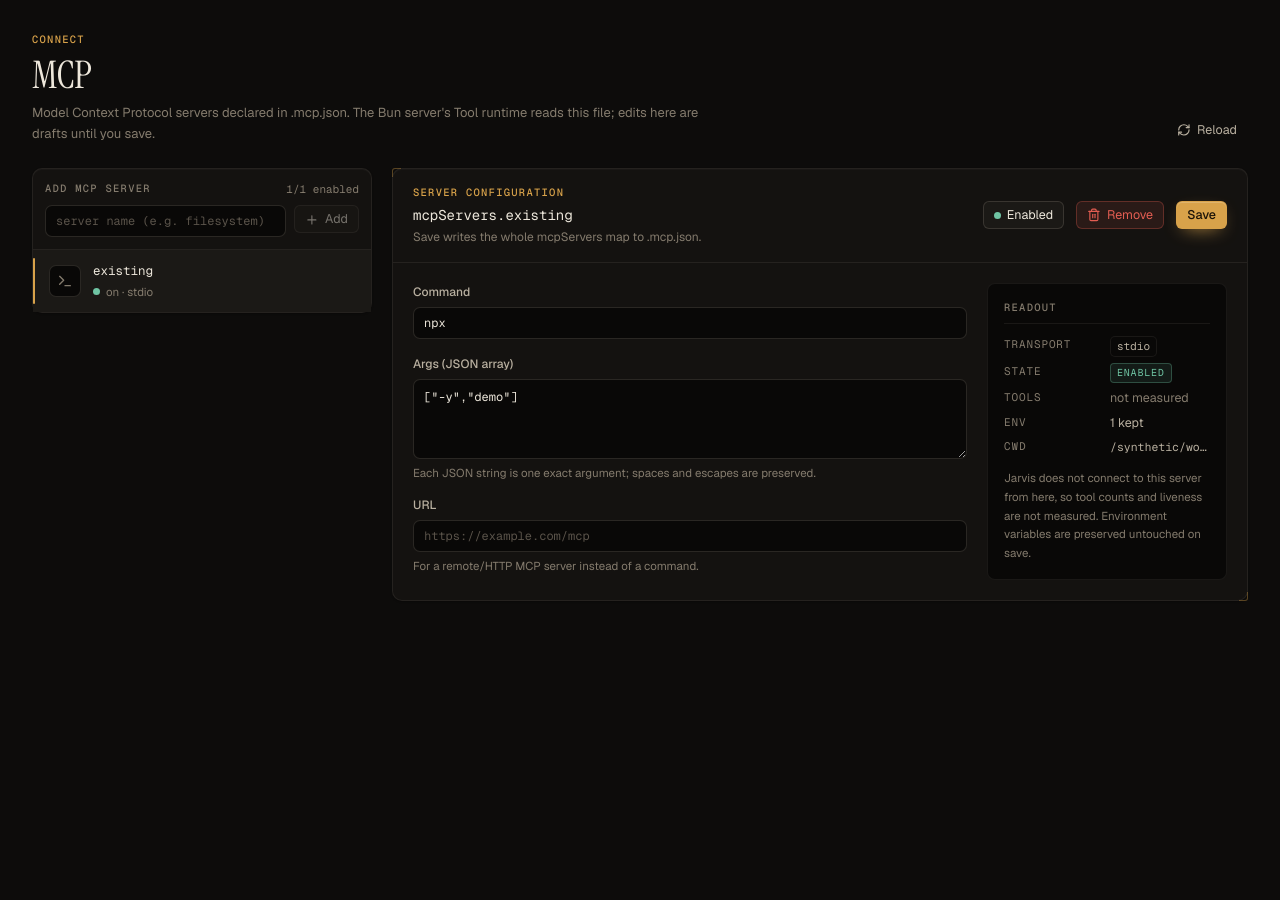
MCP persistence drafts and serialization › retries the edited retained draft without losing untouched entry fields
Expected: the field with placeholder "server name (e.g. filesystem)" is shown, [45,205,286,237]
Click the button "Save".
click(1202, 215)  # box [1176,201,1227,229]
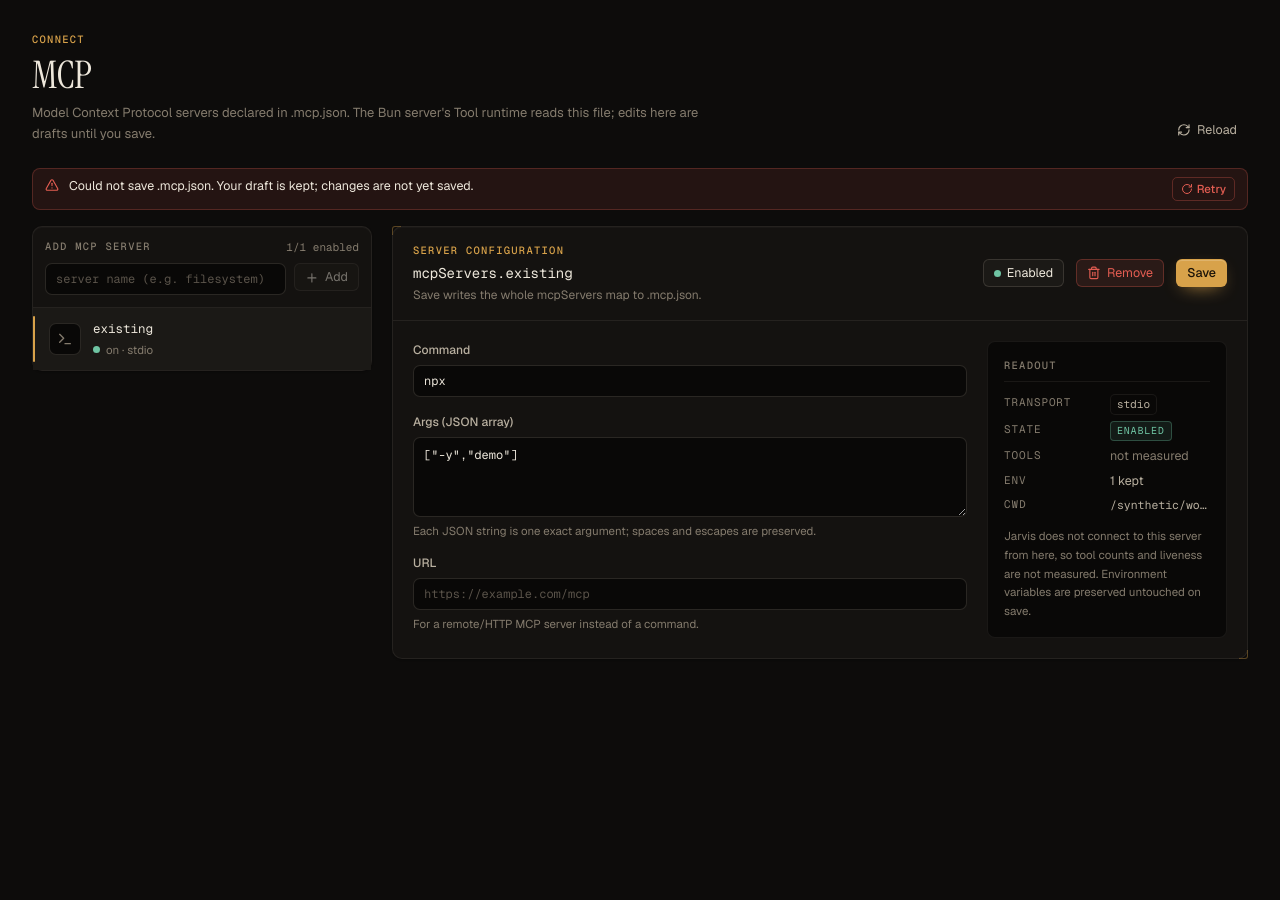
Type "bun" into the field with placeholder "npx".
click(690, 381); type("bun")  # box [413,365,967,397]
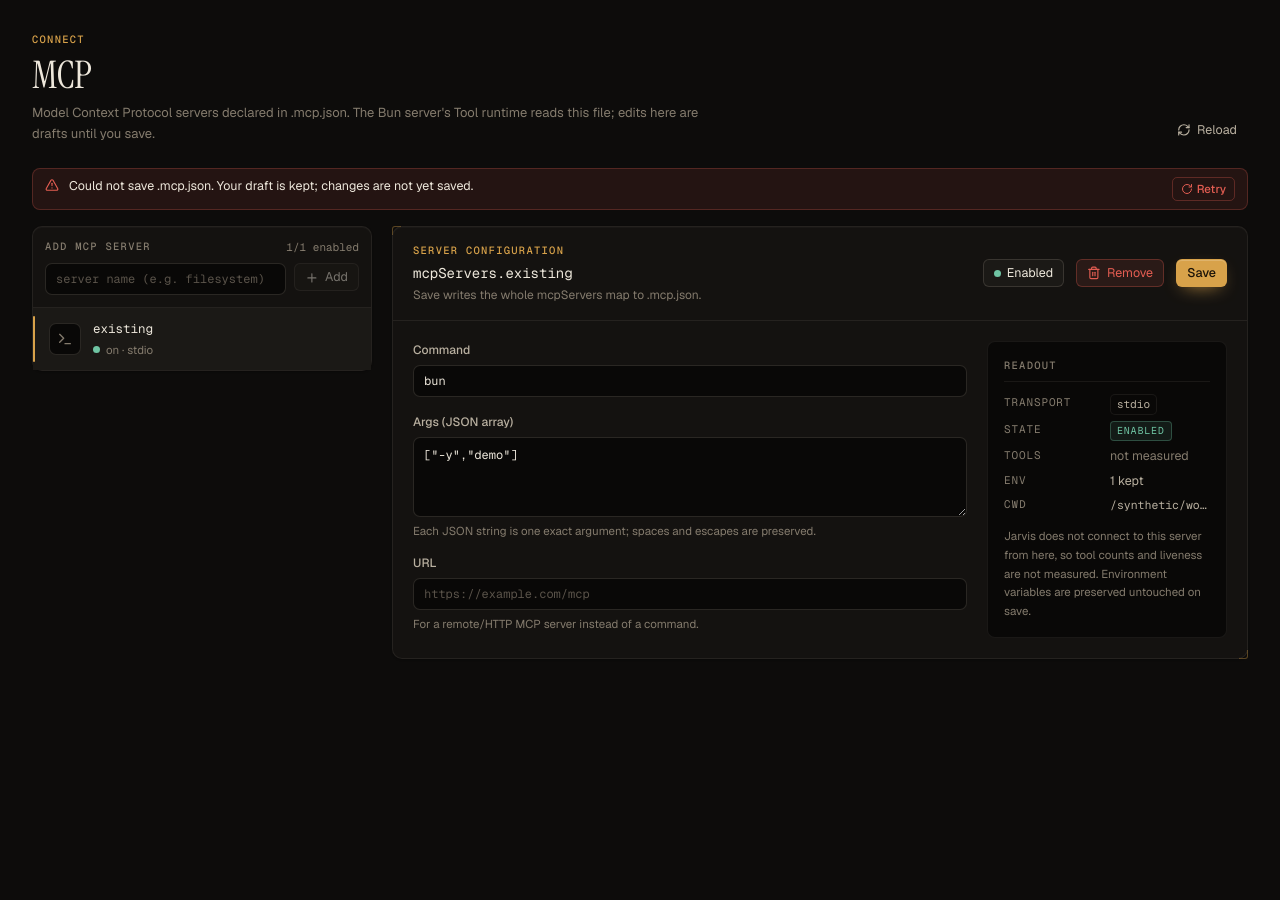
Click the button "Retry".
click(1203, 189)  # box [1172,177,1235,201]
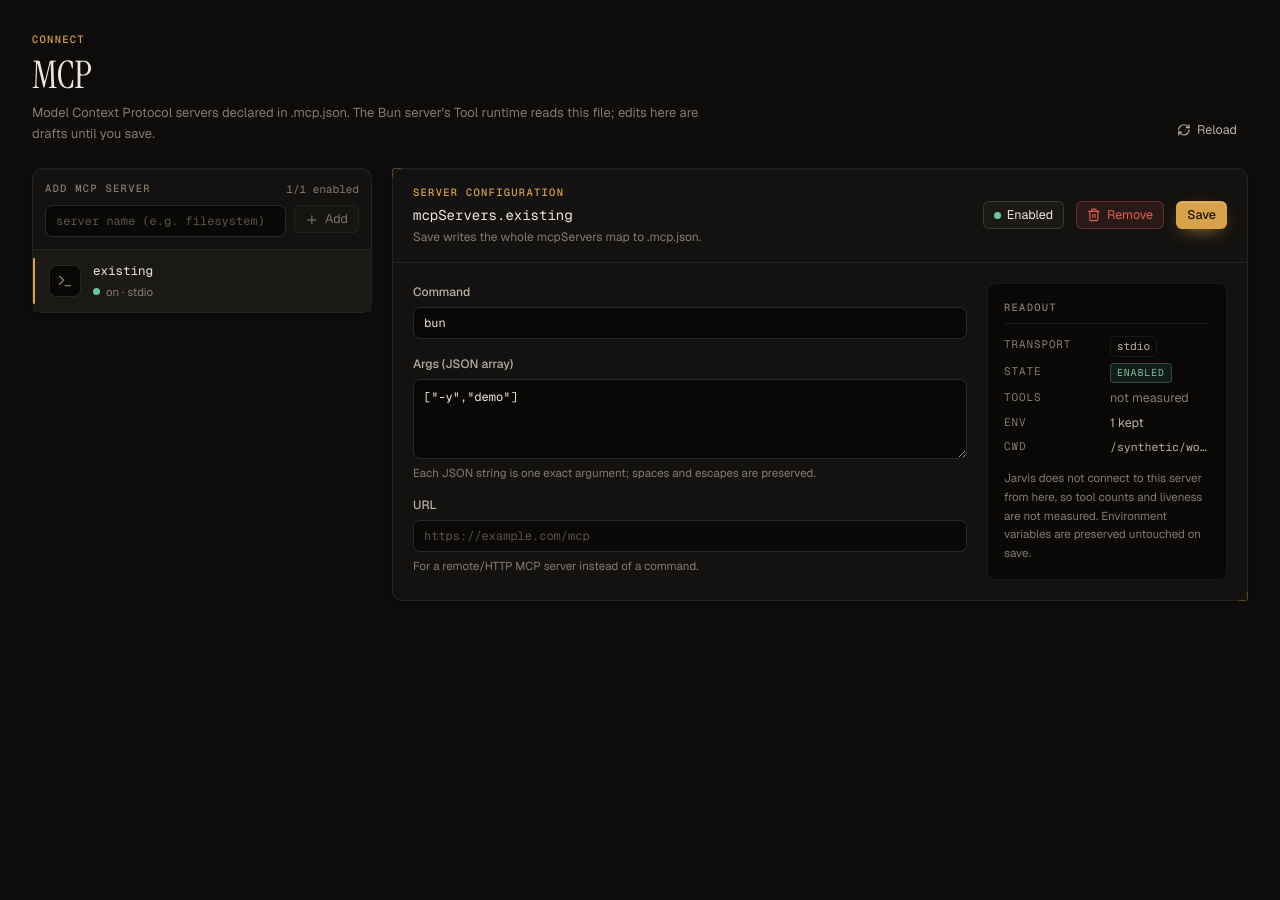
Now the message "Could not save .mcp.json. Your draft is kept; changes are not yet saved. Retry" is gone
